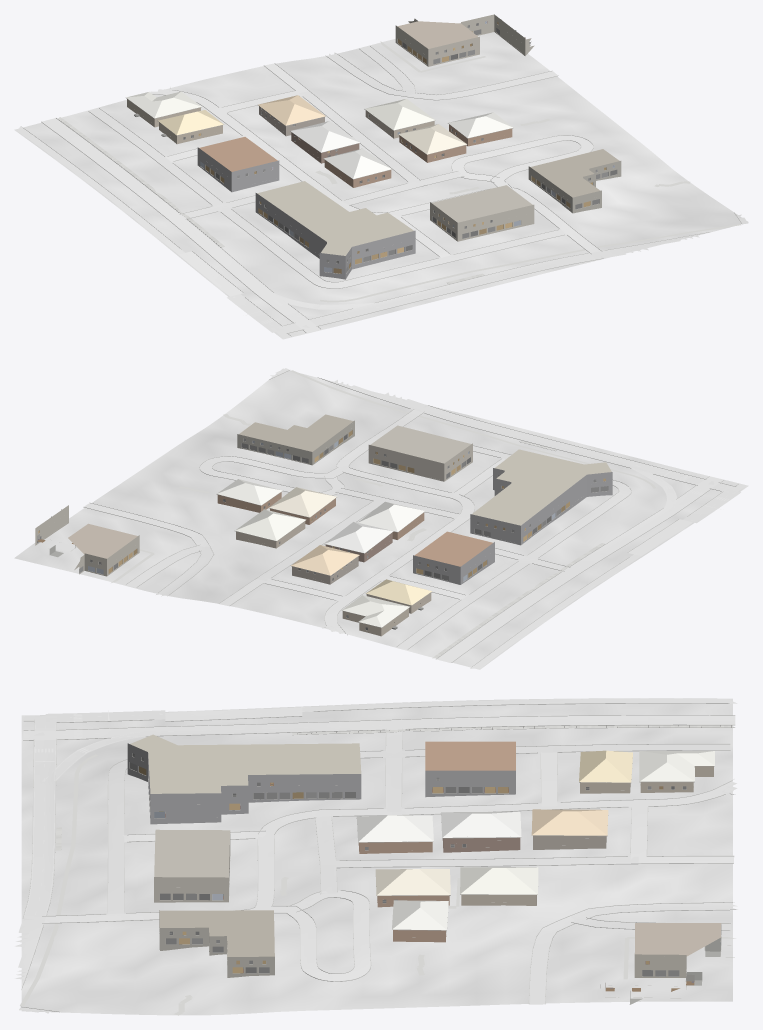
3 views of the same model, one above another, from view 1: azimuth 30°, elevation 25°; view 2: azimuth 150°, elevation 25°; view 3: azimuth 270°, elevation 25° (orthographic). The views are drawn at different scales.
Parts seen in each view (by area): view 1: ground, concrete, roof_flat, asphalt, wall_com, roof, curb, wall, walk, glass, detail, glass_lit (+1 smaller); view 2: ground, concrete, roof_flat, asphalt, roof, wall_com, curb, wall, walk, glass, detail, glass_lit (+1 smaller); view 3: ground, concrete, roof_flat, asphalt, roof, wall_com, curb, wall, walk, glass, detail, mark_w (+3 smaller).
Part boxes in pixels (x1,y1,x2,y2): ground: (14, 23, 748, 339); concrete: (89, 46, 748, 288); roof_flat: (199, 21, 619, 255); asphalt: (17, 118, 699, 338); wall_com: (197, 14, 621, 279); roof: (126, 91, 513, 178); curb: (21, 46, 742, 336); wall: (127, 99, 512, 187); walk: (58, 41, 740, 302); glass: (183, 23, 617, 272); detail: (126, 23, 616, 273); glass_lit: (198, 21, 614, 273); ground: (14, 368, 748, 669); concrete: (84, 368, 631, 649); roof_flat: (68, 414, 611, 566); asphalt: (333, 380, 745, 668); roof: (217, 479, 431, 627); wall_com: (35, 420, 612, 584); curb: (83, 370, 738, 666); wall: (217, 492, 431, 636); walk: (111, 370, 655, 658); glass: (37, 434, 608, 630); detail: (37, 428, 608, 630); glass_lit: (38, 430, 605, 581); ground: (21, 698, 732, 1015); concrete: (19, 729, 737, 1013); roof_flat: (130, 734, 721, 956); asphalt: (15, 699, 737, 979); roof: (356, 750, 714, 930); wall_com: (127, 743, 721, 977); curb: (21, 703, 735, 1012); wall: (358, 766, 713, 942); walk: (20, 725, 735, 1015); glass: (129, 753, 686, 976); detail: (129, 753, 734, 998); mark_w: (21, 698, 722, 985).
Bounding box in the file's own units: 258 × 17.41 × 258.
